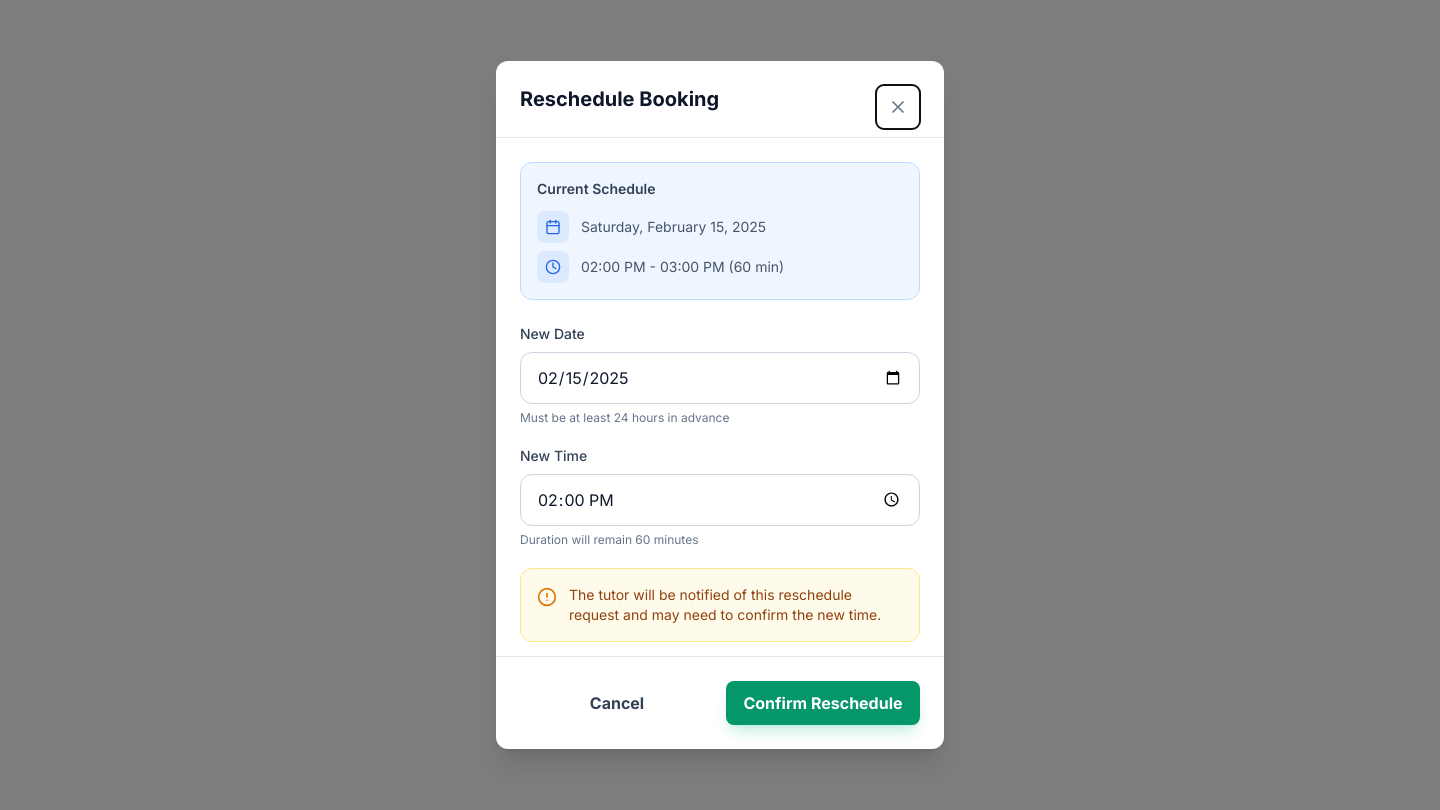
RescheduleBookingModal › validation › disables submit button when time is empty
Step 1. Clear the time field labelled "New Time" → (720, 500), box [520,474,920,526]
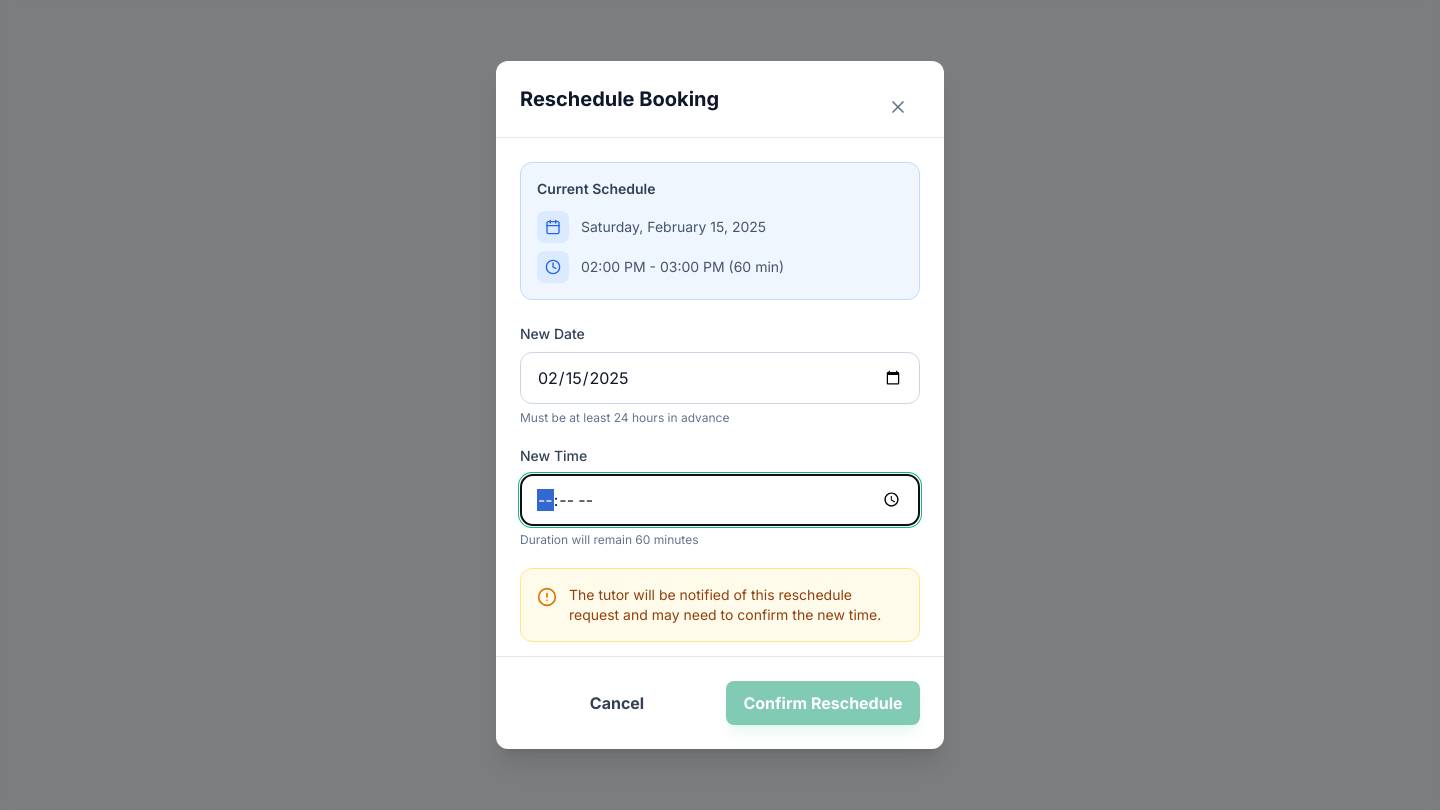
Result: the button "Confirm Reschedule" is disabled at [726,681,920,725]
